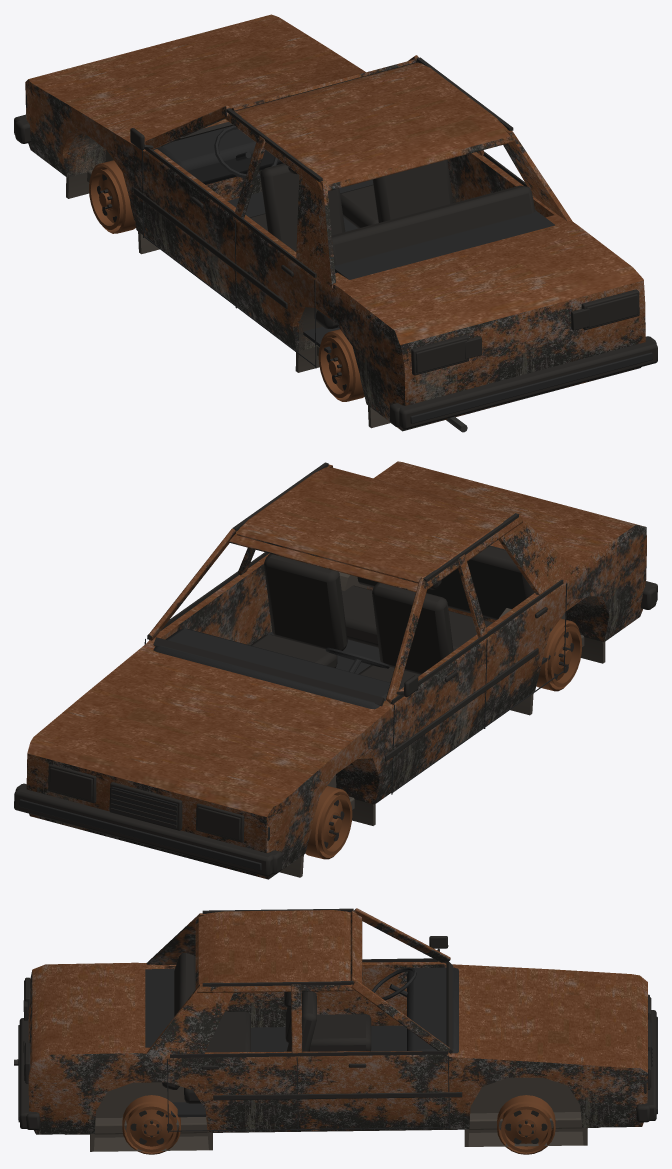
File: sedan_wreck.glb
3 renders of one model, top to bottom at view 1: azimuth 30°, elevation 25°; view 2: azimuth 150°, elevation 25°; view 3: azimuth 270°, elevation 25°, orthographic. The views are drawn at different scales.
Visible parts, largest first — view 1: body; view 2: body; view 3: body.
Part boxes in pixels (x1=…): body: x1=14, y1=14, x2=657, y2=432; body: x1=14, y1=461, x2=657, y2=879; body: x1=14, y1=908, x2=657, y2=1154.
Size of the model in its own units: 1.9 by 1.36 by 4.81.
6 materials, 1 textured.
